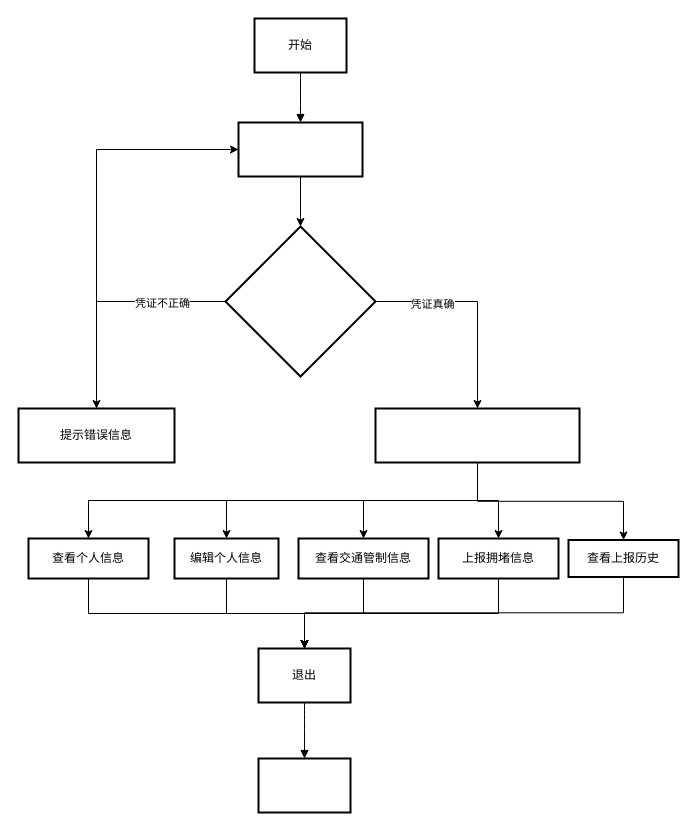
Some shapes in this 696 by 830 pixel diagram are drawn without their labels. The box of each missing label's shape, as (x1, y1, x2, y2) in pixels:
用户登录: (237, 121, 363, 177)
结束: (257, 757, 351, 813)
进入用户中心主界面: (374, 407, 580, 463)
验证用户信息: (224, 225, 376, 377)
